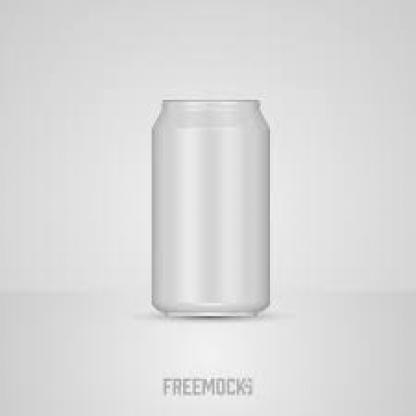Compsot: (150, 100, 270, 314)
